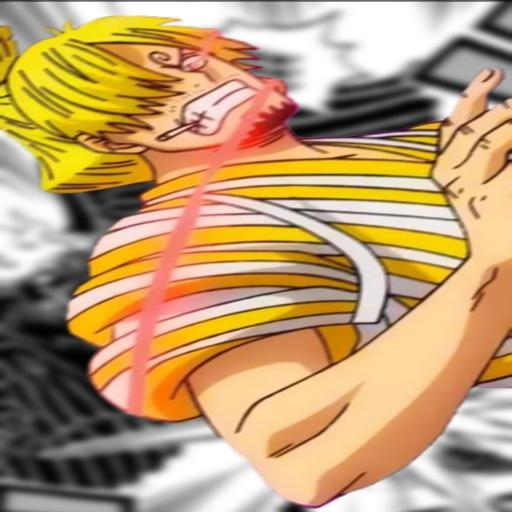sanji: (13, 7, 512, 506)
